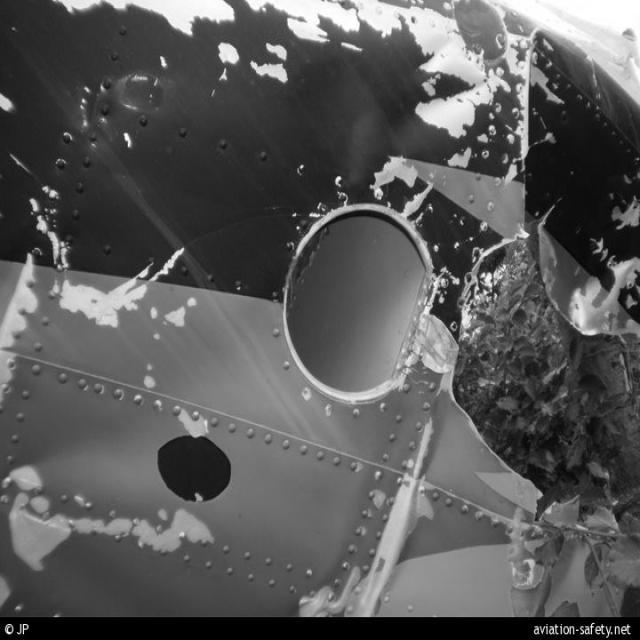dent: (303, 57, 423, 188), (10, 414, 164, 499)
